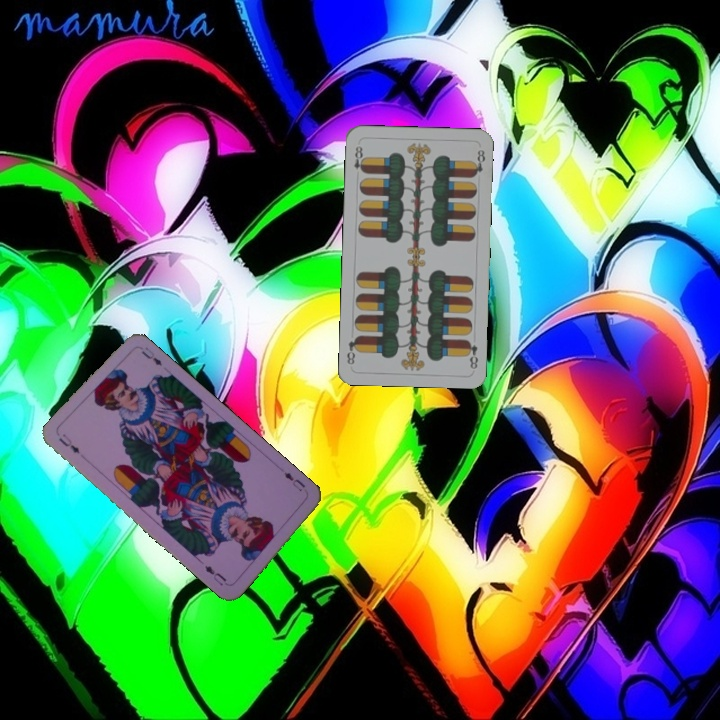E8: (350, 142, 367, 180), (463, 336, 480, 372)
EU: (55, 430, 82, 457), (280, 468, 308, 494)
